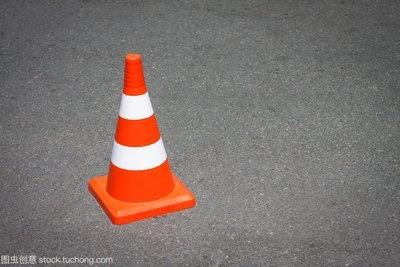cone_barrel: (94, 53, 191, 208)
